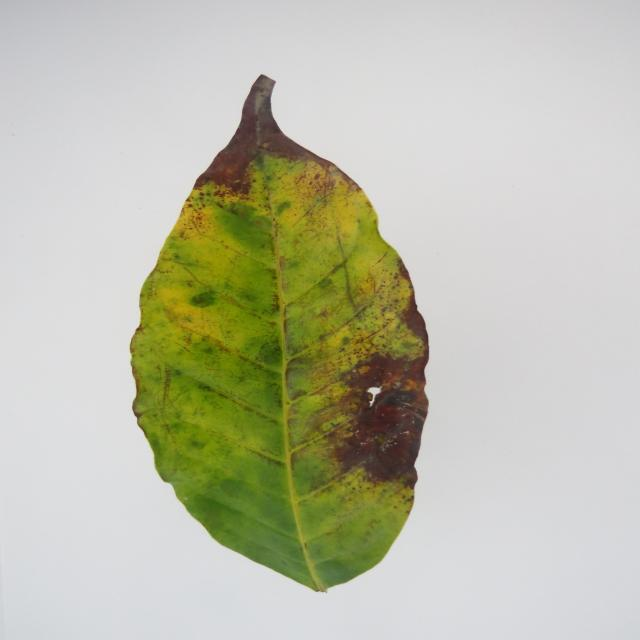DeficienciaNutricional-Potasio: (132, 76, 428, 591)
